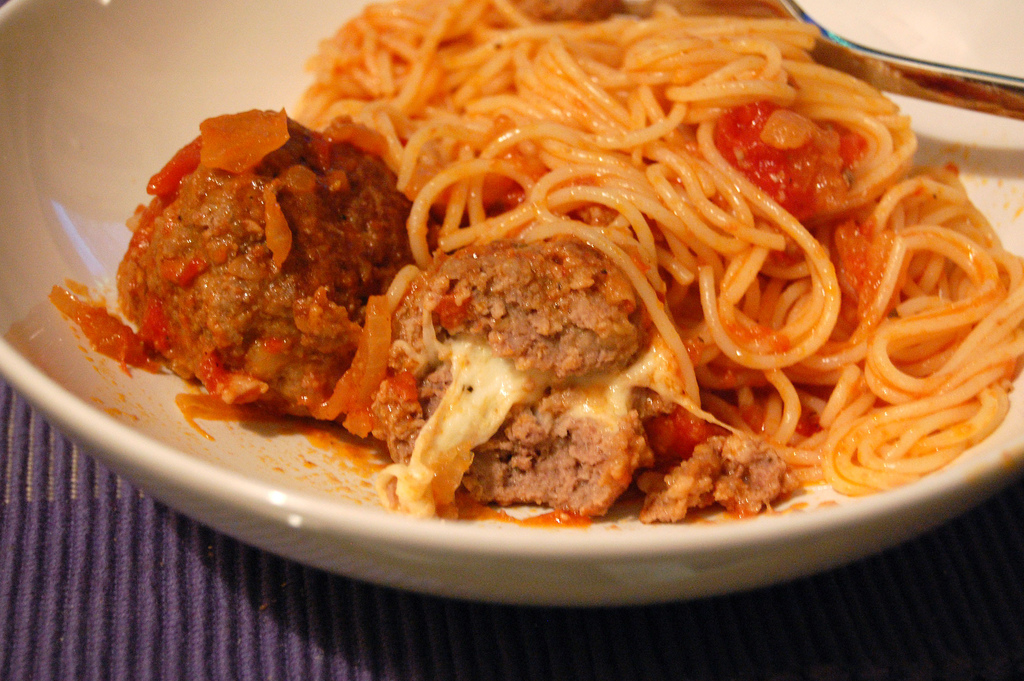meatballs: (140, 137, 381, 347)
plain spaghetti: (365, 14, 837, 258)
